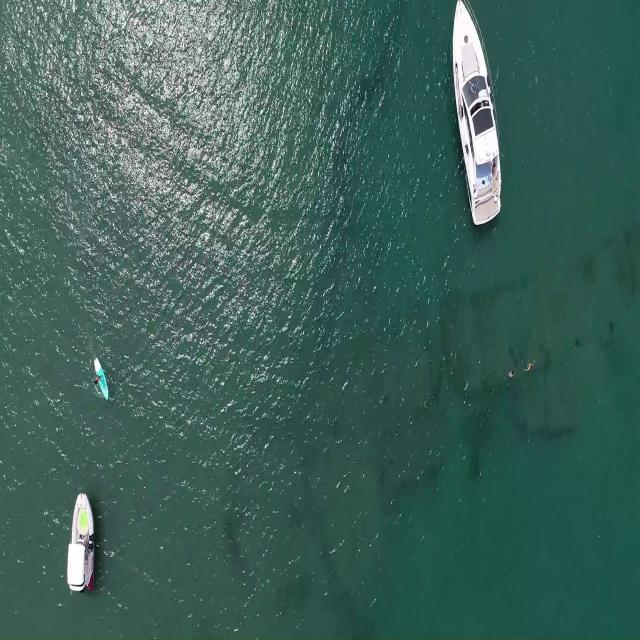boat: (450, 6, 504, 227), (66, 488, 98, 600)
person: (524, 360, 537, 374), (92, 372, 103, 386), (508, 370, 516, 380)
surfboard: (94, 355, 109, 406)
